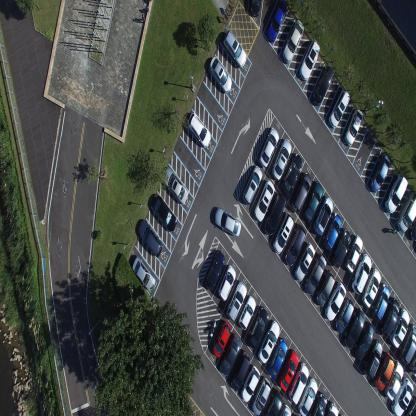car: (257, 319, 280, 364), (246, 306, 269, 350), (280, 152, 302, 198), (311, 64, 335, 106), (282, 19, 304, 64), (272, 212, 295, 255), (163, 167, 189, 205), (151, 194, 177, 232), (264, 192, 286, 236), (284, 223, 306, 267), (344, 307, 366, 351), (302, 180, 324, 224), (384, 174, 408, 214), (139, 218, 163, 258), (131, 255, 156, 292), (266, 0, 288, 42), (298, 38, 320, 80), (288, 362, 309, 406), (254, 179, 275, 223), (305, 253, 327, 295), (351, 252, 372, 296), (324, 281, 347, 321), (223, 30, 247, 68), (390, 377, 414, 415), (230, 349, 251, 392), (278, 349, 299, 392), (291, 171, 312, 214), (258, 127, 280, 168), (328, 89, 351, 128), (214, 206, 242, 238), (208, 56, 232, 93), (395, 190, 416, 232), (220, 334, 241, 376), (294, 242, 316, 282), (362, 340, 384, 380), (272, 138, 292, 182), (204, 250, 225, 291), (226, 281, 247, 322), (297, 376, 318, 416), (267, 338, 287, 380), (242, 164, 262, 206), (354, 322, 375, 362), (374, 352, 395, 392), (379, 298, 400, 338), (361, 268, 381, 310), (314, 195, 334, 237), (188, 112, 211, 148), (370, 153, 390, 193), (384, 362, 404, 402), (390, 308, 410, 348), (370, 283, 390, 323), (315, 270, 336, 308), (344, 107, 363, 147), (331, 229, 351, 267), (323, 212, 342, 251), (398, 324, 416, 365), (345, 233, 363, 274), (212, 320, 231, 358), (240, 366, 260, 402), (335, 297, 354, 334), (218, 264, 236, 302), (238, 295, 257, 331), (252, 377, 270, 415), (263, 390, 284, 415), (308, 392, 328, 416), (402, 394, 416, 416), (324, 400, 340, 416), (407, 348, 416, 374), (249, 0, 261, 18), (408, 218, 416, 240), (278, 404, 291, 415)
